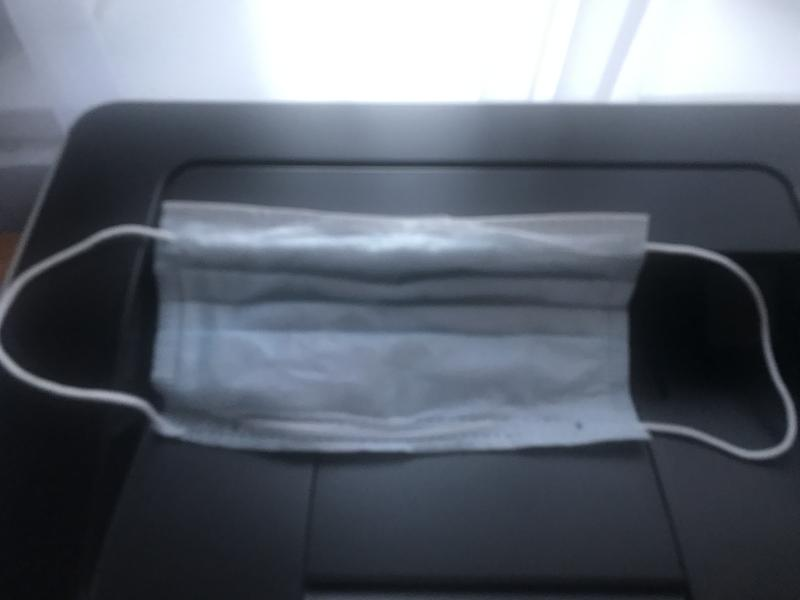medical_mask: (1, 202, 800, 460)
